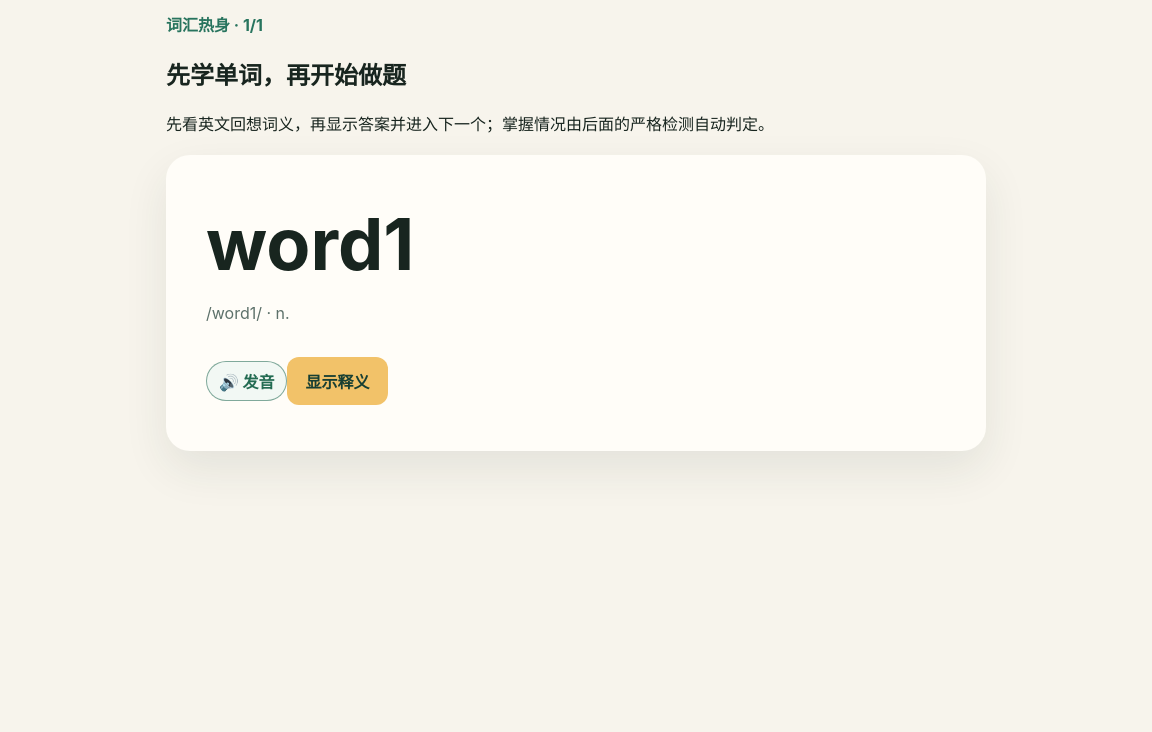
Test: VocabularyWarmup › keeps the current word and retries when saving fails
What coordinates should you click on to do the following:
click the button "显示释义"
I would click on:
 (338, 381)
Its box is [288,357,388,405].
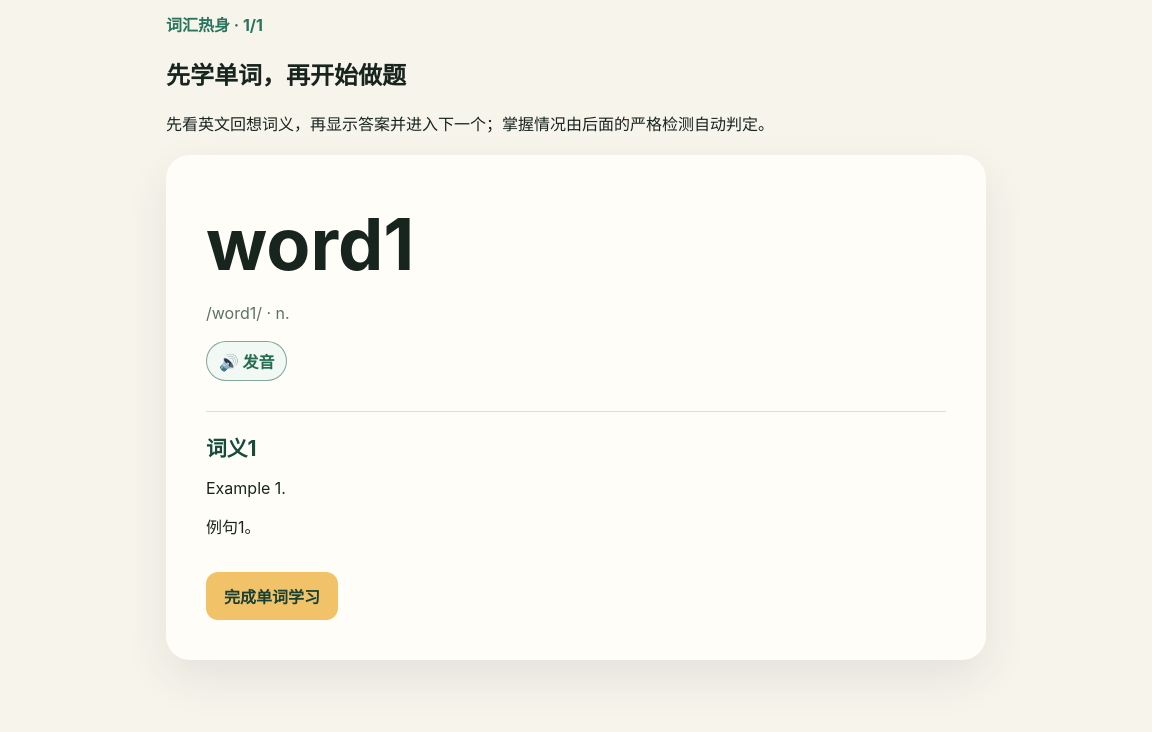
What coordinates should you click on to do the following:
click the button "完成单词学习"
I would click on:
 (272, 596)
Its box is [206,572,338,620].
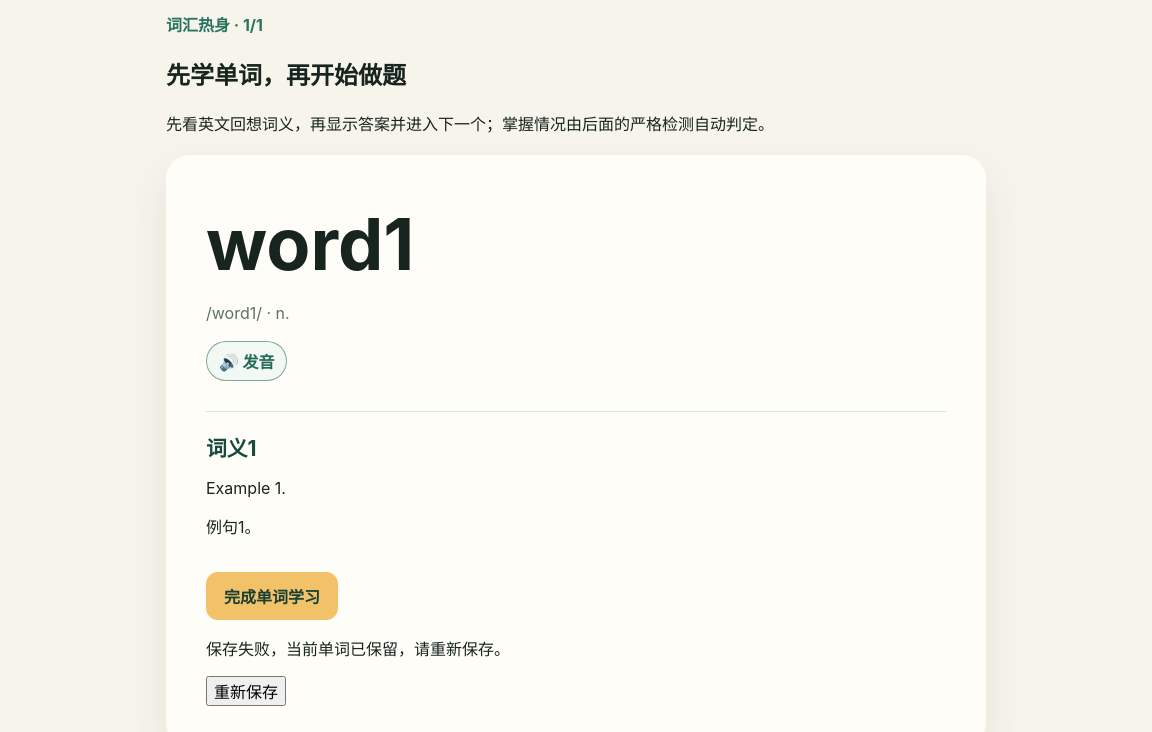
Check: the heading "word1" is shown, box [206,200,414,287]
Check: the message shows "保存失败", box [206,639,510,659]
What coordinates should you click on to do the following:
click the button "重新保存"
I would click on:
 (246, 691)
Its box is [206,676,286,706].
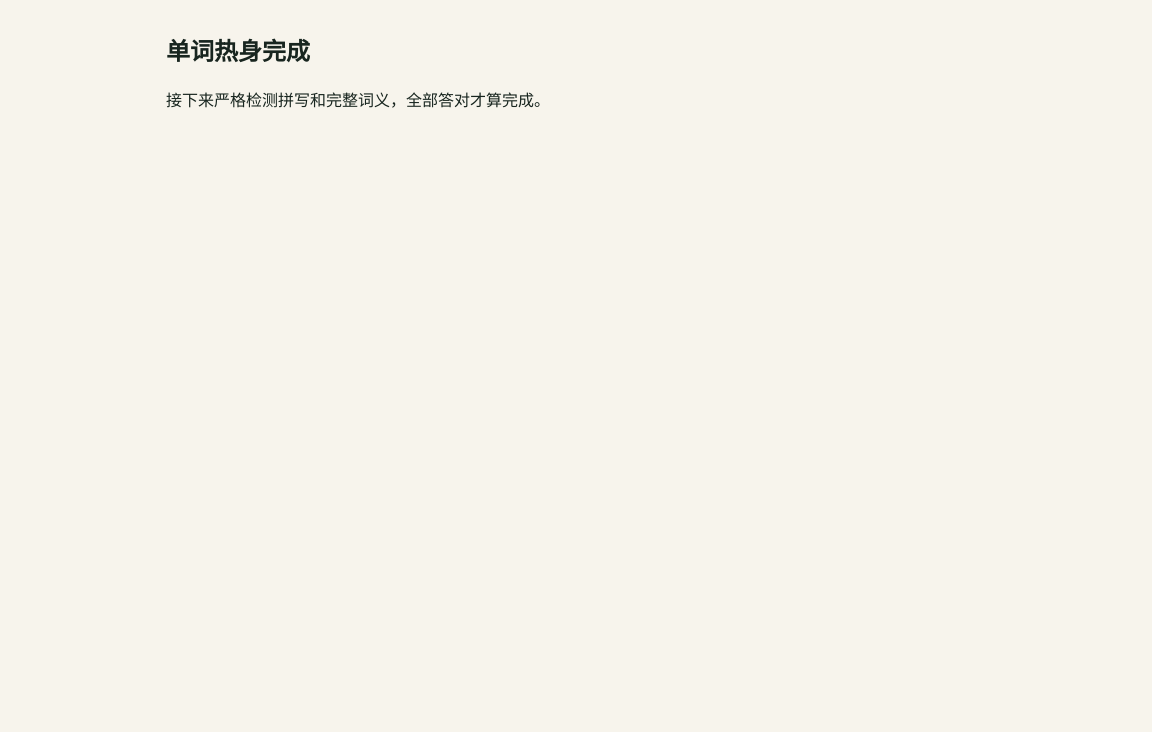
Check: the heading "单词热身完成" is shown, box [166,37,310,66]
